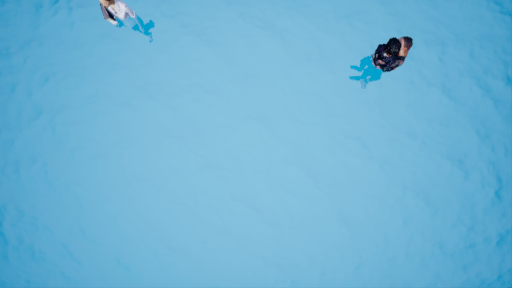person: (347, 28, 423, 97), (89, 1, 161, 44)
